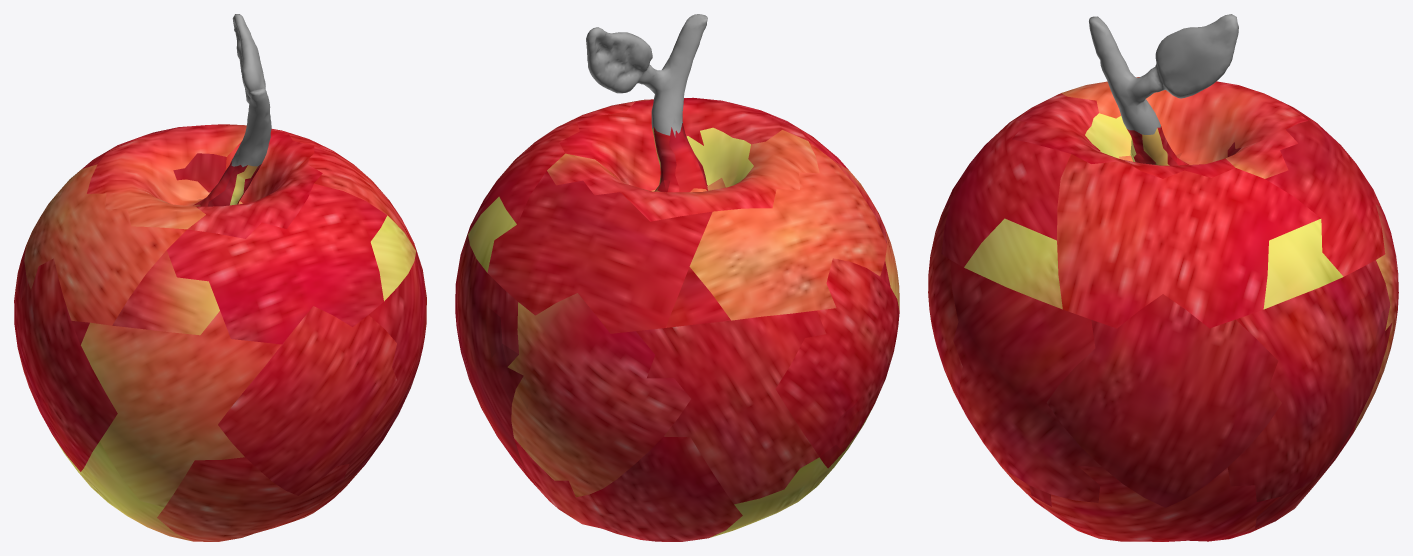
The model's file is apple_100.obj.
The picture shows the model from 3 angles, left to right: view 1: azimuth 30°, elevation 25°; view 2: azimuth 150°, elevation 25°; view 3: azimuth 270°, elevation 25°; orthographic projection. The views are drawn at different scales.
Parts seen in each view (by area): view 1: body_Manzana.025, stem_Manzana.025; view 2: body_Manzana.025, stem_Manzana.025; view 3: body_Manzana.025, stem_Manzana.025.
Part boxes in pixels (bbox=[...]): body_Manzana.025: bbox=[14, 124, 426, 541]; stem_Manzana.025: bbox=[37, 14, 271, 452]; body_Manzana.025: bbox=[455, 97, 899, 541]; stem_Manzana.025: bbox=[485, 14, 863, 456]; body_Manzana.025: bbox=[928, 77, 1398, 541]; stem_Manzana.025: bbox=[1089, 14, 1392, 370].
Size of the model in its own units: 8.24 by 10.03 by 8.22.
